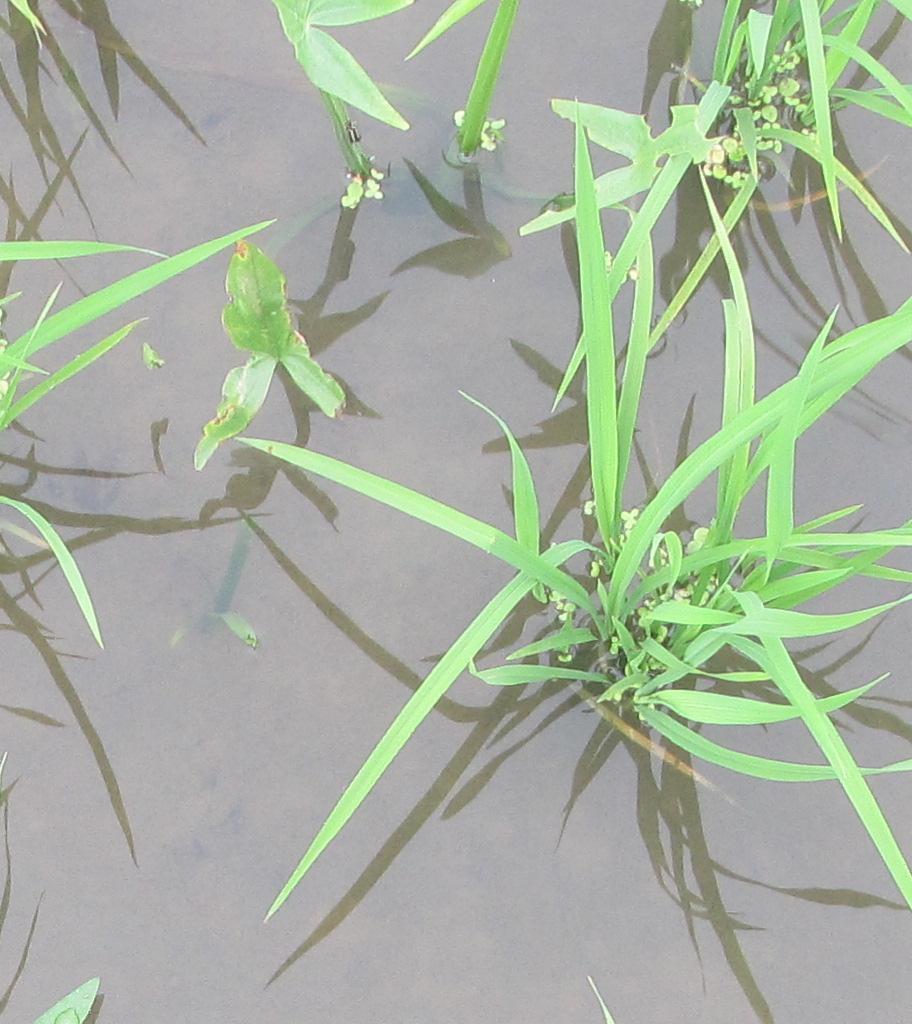Weed: (182, 222, 338, 477), (260, 2, 425, 139)
